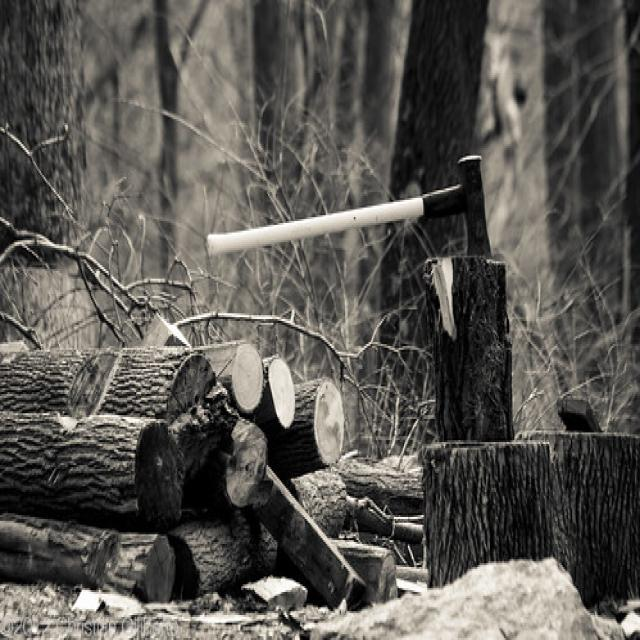Axe: (206, 155, 491, 257)
